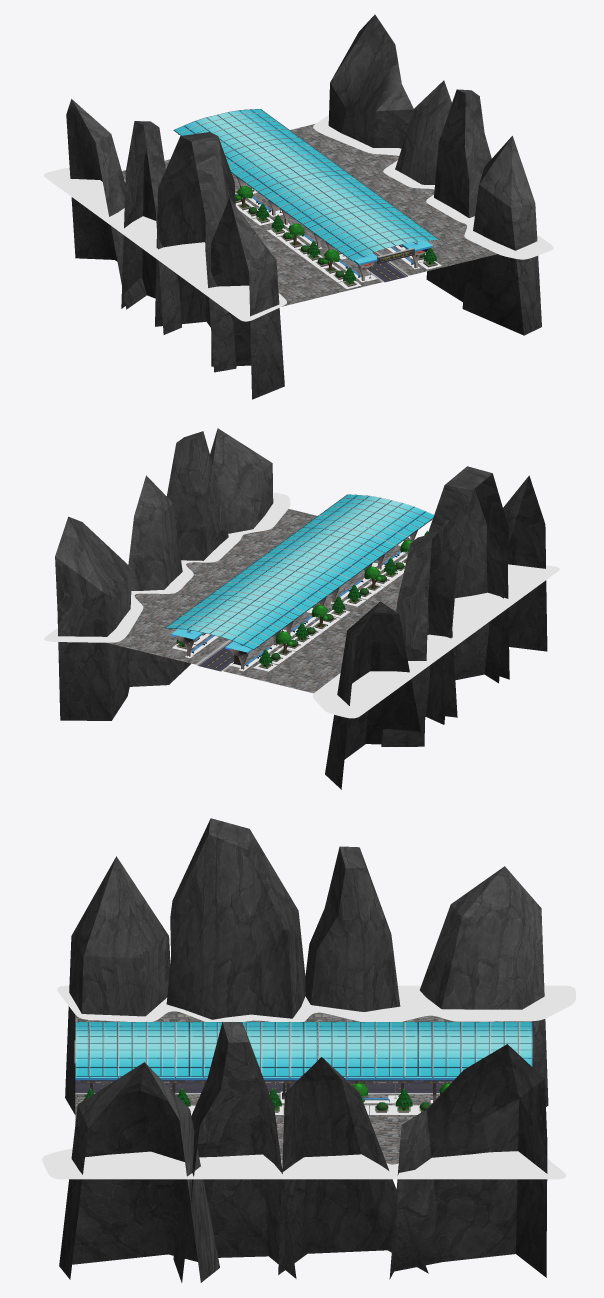
The model's file is City_18.fbx.
3 renders of one model, top to bottom at view 1: azimuth 30°, elevation 25°; view 2: azimuth 150°, elevation 25°; view 3: azimuth 270°, elevation 25°, orthographic. The views are drawn at different scales.
Visible parts, largest first — view 1: City_18; view 2: City_18; view 3: City_18.
Part boxes in pixels (box(x1,y1,x2,y2)): City_18: box(44, 14, 553, 399); City_18: box(44, 428, 559, 789); City_18: box(42, 818, 575, 1282).
Size of the model in its own units: 22617 by 13384 by 25170.
Materials: 8 (8 with a texture image).
